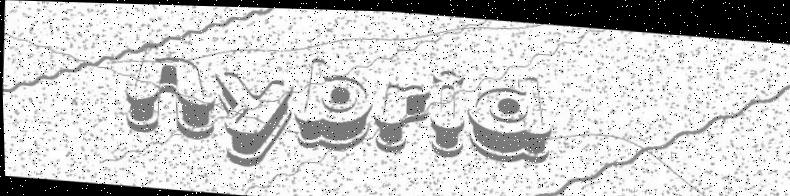b: (290, 42, 378, 163)
d: (457, 69, 560, 170)
i: (426, 54, 469, 163)
n: (119, 43, 219, 138)
r: (369, 73, 431, 164)
y: (207, 65, 298, 170)
